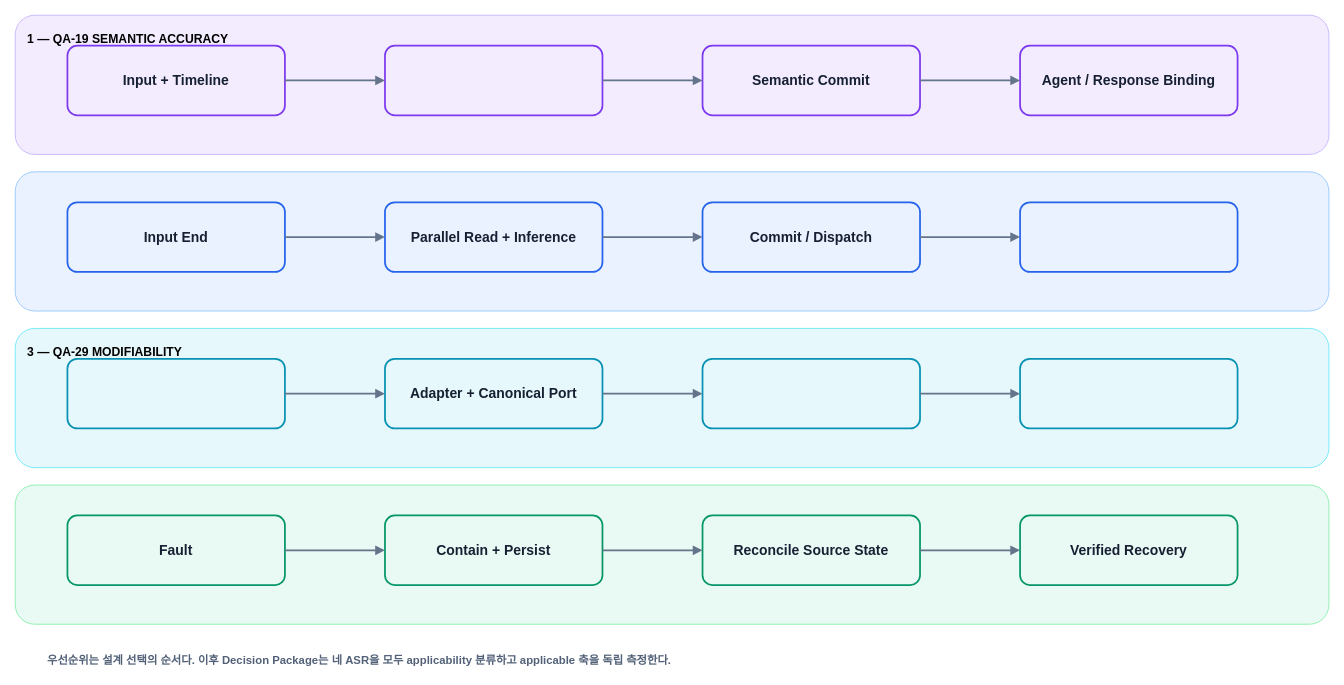
The diagram is 1344 pixels wide and 685 high, and some of its shapes have lost their labels. The box of each missing label's shape, as (x1, y1, x2, y2) in pixels:
2 — QA-09 RESPONSIVENESS: (14, 171, 1329, 311)
4 — QA-39 RELIABILITY / RECOVERABILITY: (14, 484, 1329, 624)
Changed Elements: (1019, 358, 1238, 429)
Evidence Coverage: (384, 44, 603, 116)
Meaningful Output: (1019, 201, 1238, 272)
Provider Change: (66, 358, 285, 429)
Schema Migration: (701, 358, 920, 429)
